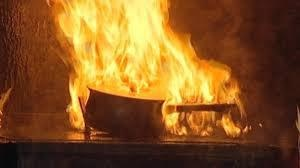fire: (49, 0, 239, 135)
